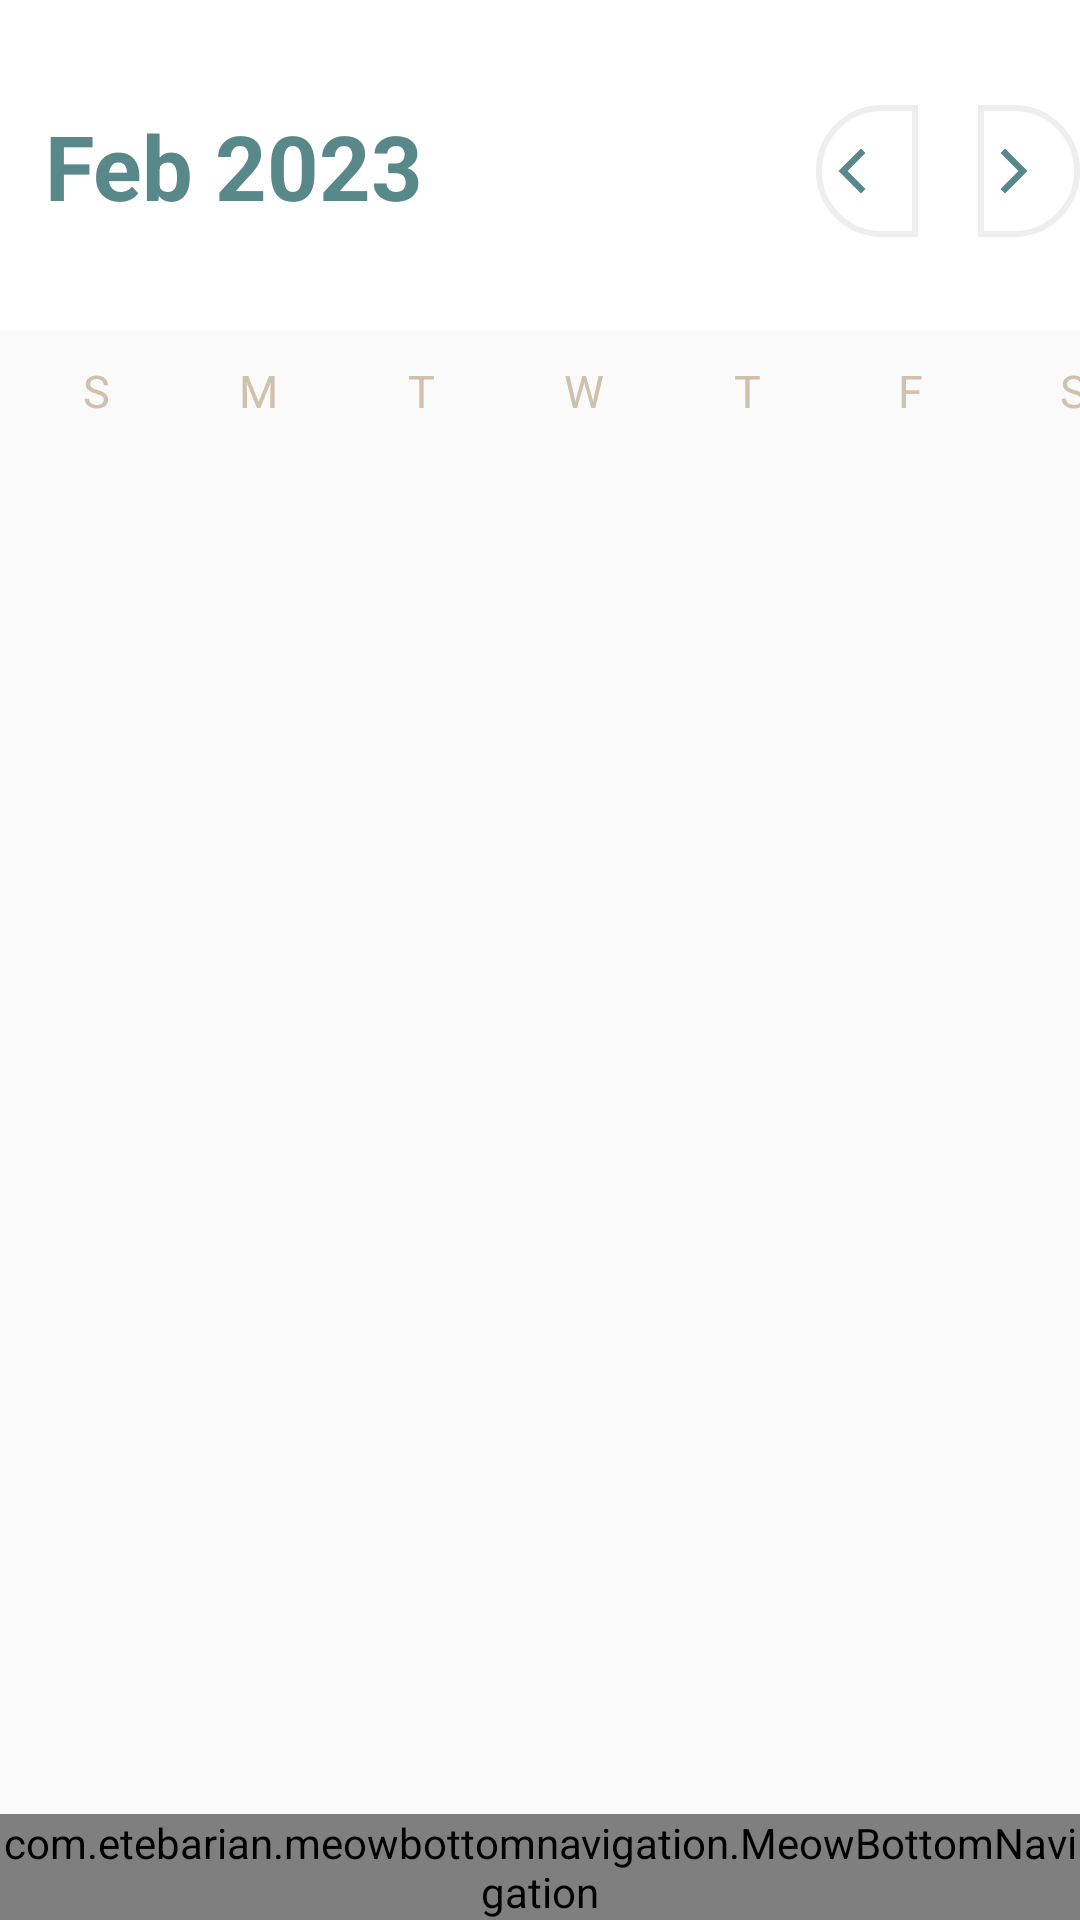

Where icons sit on this 1080 × 1920 app screen, as bbox=[x1, y1, x2, y2]:
backcalender: bbox=[839, 148, 865, 193]
forward: bbox=[1001, 149, 1027, 193]
